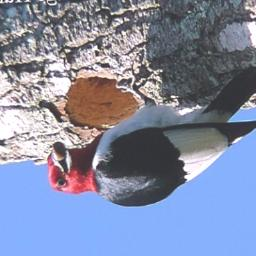Woodpecker: (27, 50, 256, 218)
